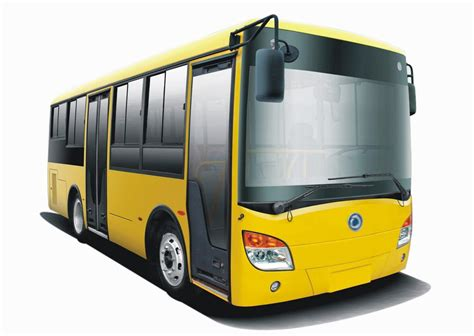bus: (48, 36, 411, 309)
